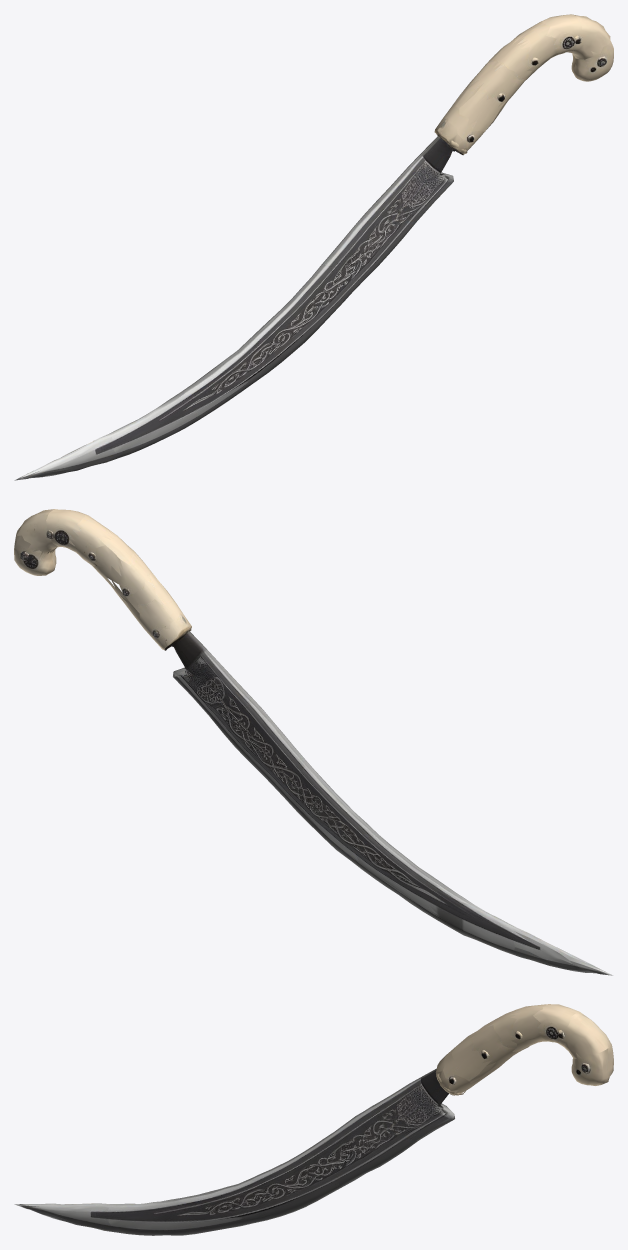
The model's file is yatagan.glb.
3 renders of one model, top to bottom at view 1: azimuth 30°, elevation 25°; view 2: azimuth 150°, elevation 25°; view 3: azimuth 330°, elevation 25°, orthographic.
Visible parts, largest first — view 1: mesh_node; view 2: mesh_node; view 3: mesh_node.
Part boxes in pixels (box(x1,y1,x2,y2)): mesh_node: box(14, 14, 613, 480); mesh_node: box(14, 509, 612, 975); mesh_node: box(14, 1004, 613, 1235).
Size of the model in its own units: 0.72 by 0.3881 by 0.0434.
Materials: 1 (1 with a texture image).
